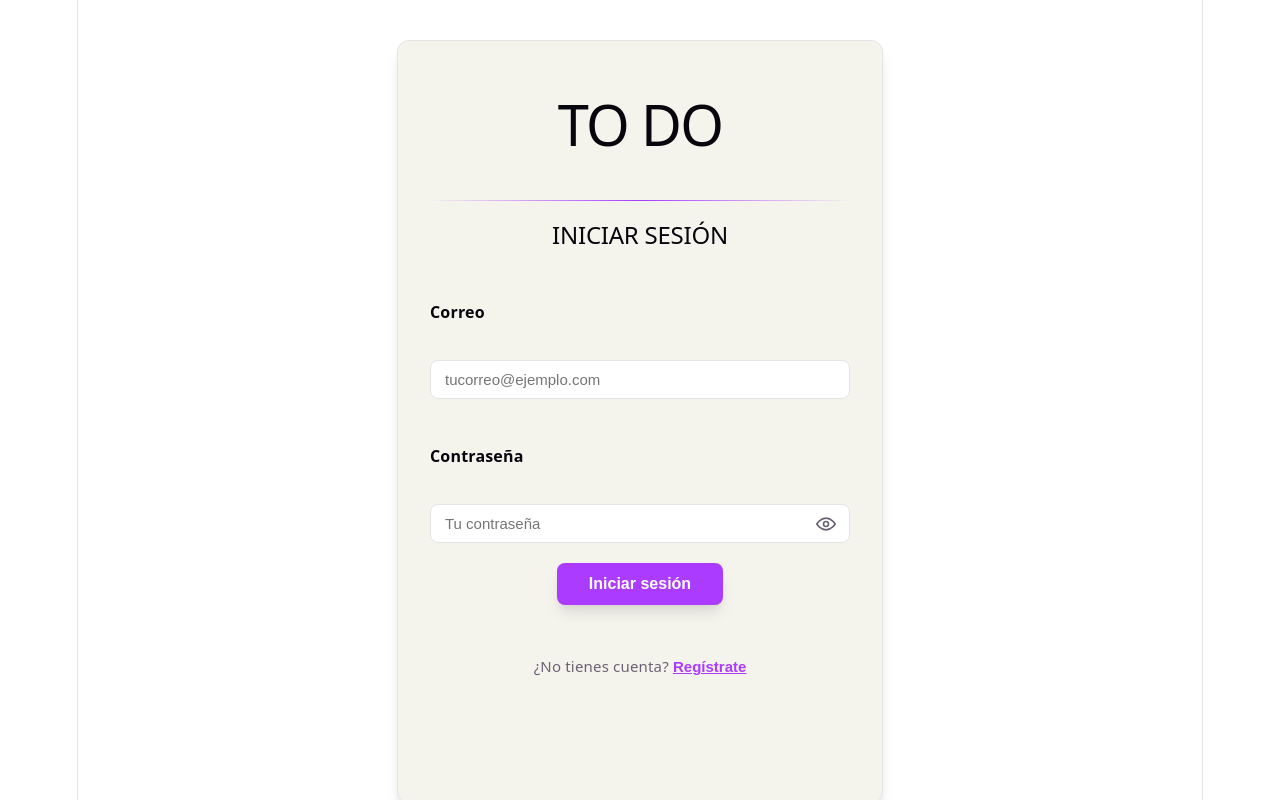
Scenario: App autenticada › permite cambiar entre inicio de sesión y registro
Click the button "Regístrate".
click(710, 667)  # box [673,658,746,675]
(page scrolled)
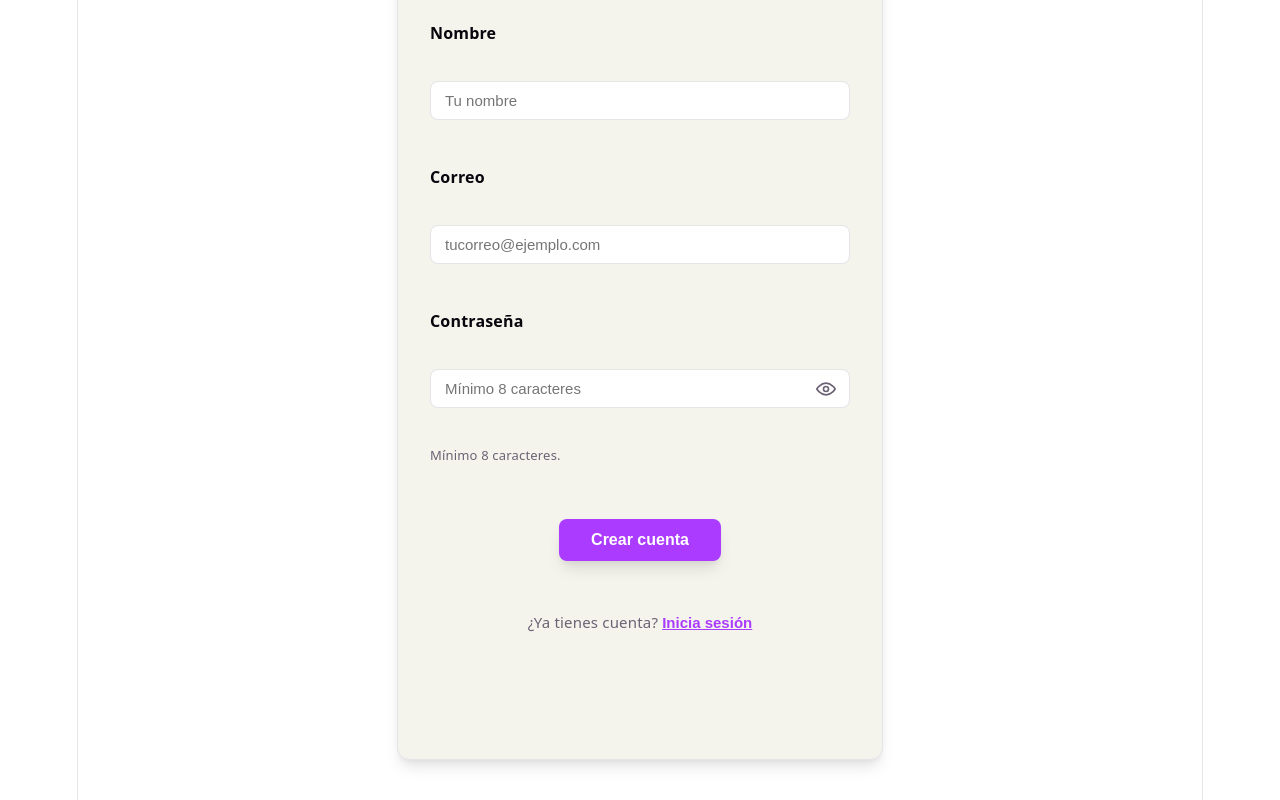
Click the button "Inicia sesión".
click(707, 623)  # box [662,614,752,631]
(page scrolled)
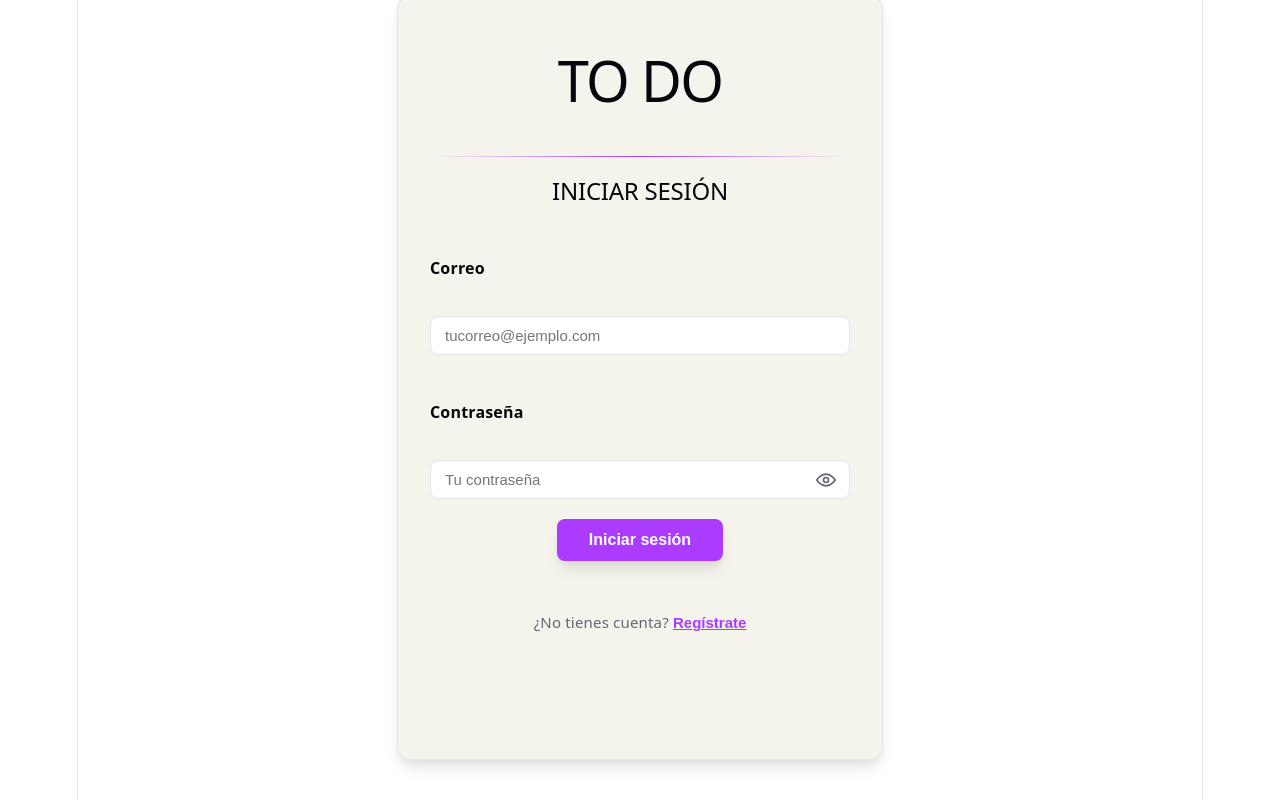
Result: the heading "INICIAR SESIÓN" is shown at [552,174,728,207]
